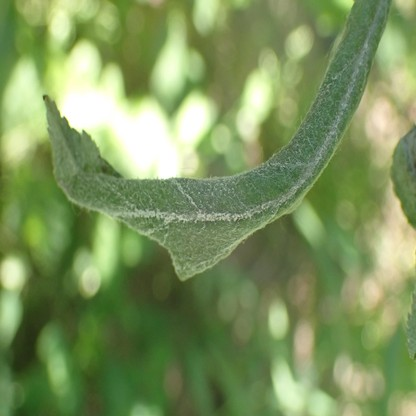powdery_mildew: (43, 0, 389, 283), (402, 129, 416, 193)
